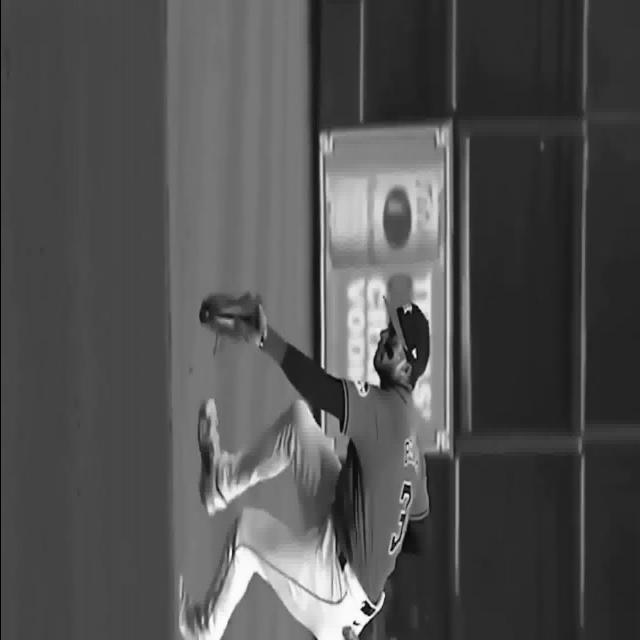baseball_glove: (199, 293, 266, 347)
shoe: (198, 398, 226, 516), (178, 576, 201, 640)
